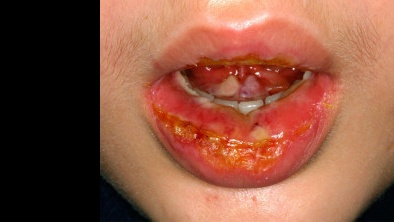SJS-TEN: (134, 0, 364, 209)
